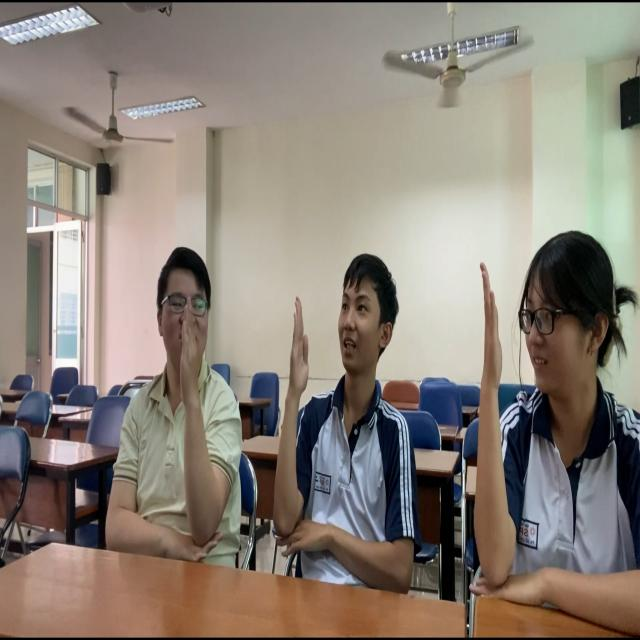raise_hand: (470, 209, 640, 640), (269, 246, 426, 592), (98, 232, 249, 583)
